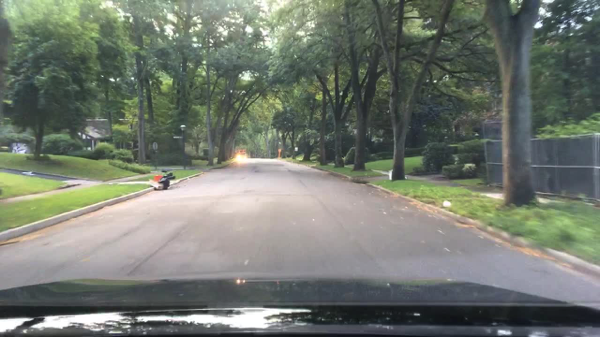car: (235, 150, 246, 159)
traffic sign: (152, 142, 156, 151), (172, 136, 184, 139), (294, 147, 299, 152)
